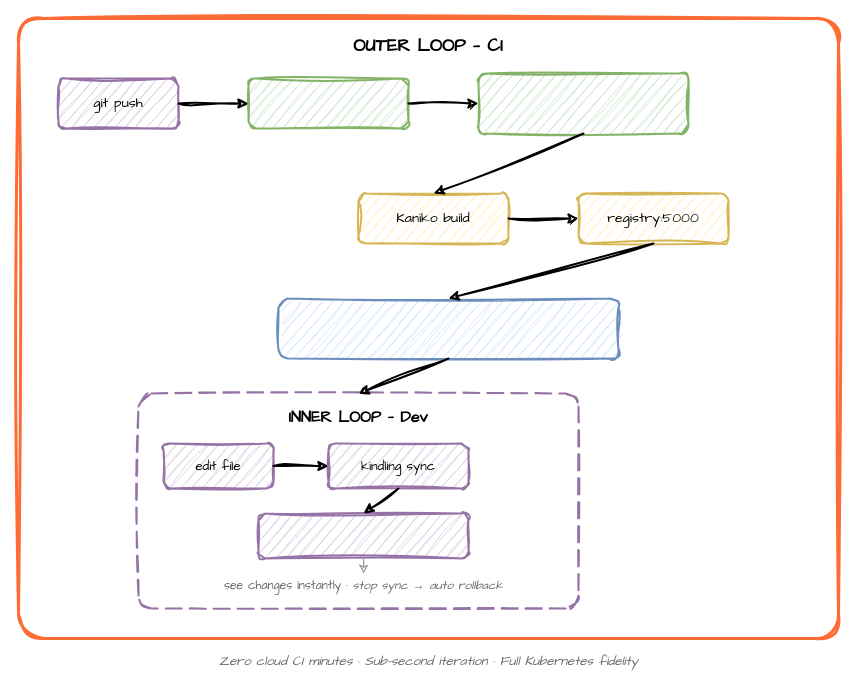
This 857x691 diagram has some shape labels left out. Each missing label, with the box of its shape:
auto-detected restart signal / wrapper / build: (257, 512, 469, 559)
GitHub Actions: (247, 77, 409, 129)
Operator deploys staging env Deployment + Service + Ingress + Dependencies: (277, 297, 619, 359)
Self-hosted Runner on your laptop: (477, 72, 689, 134)
